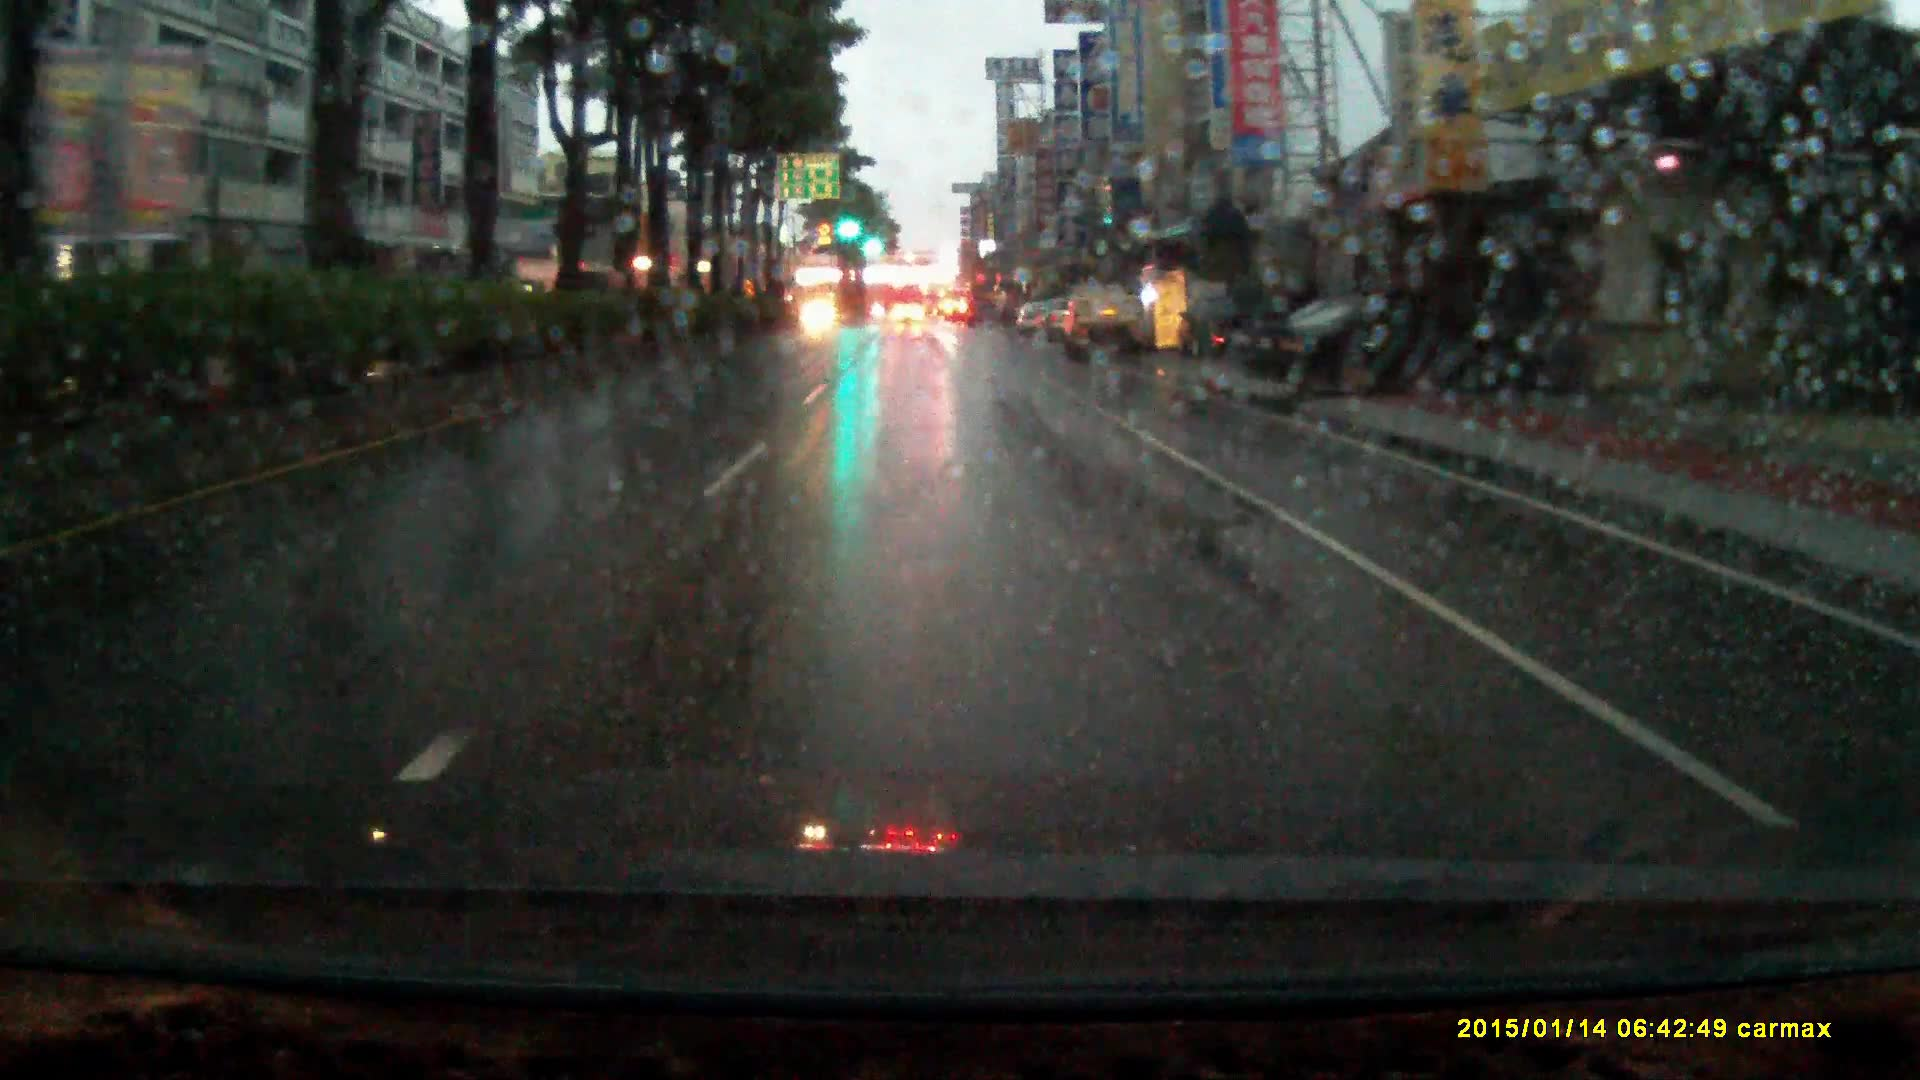vehicle: (1236, 298, 1568, 390), (1063, 281, 1142, 360), (1175, 295, 1265, 363), (799, 295, 840, 335), (891, 301, 927, 323), (924, 282, 945, 318)
